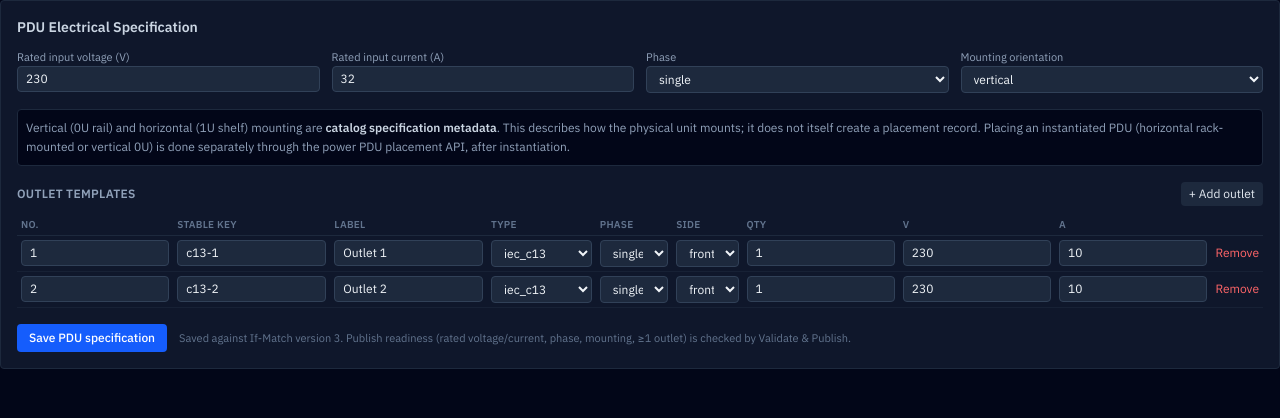
Test: PduSpecPanel › explains an optimistic-concurrency 409 instead of reporting a bare error
This screenshot has width=1280, height=418.
Click the button "Save PDU specification". click: (92, 338)
box: [17, 324, 167, 352]
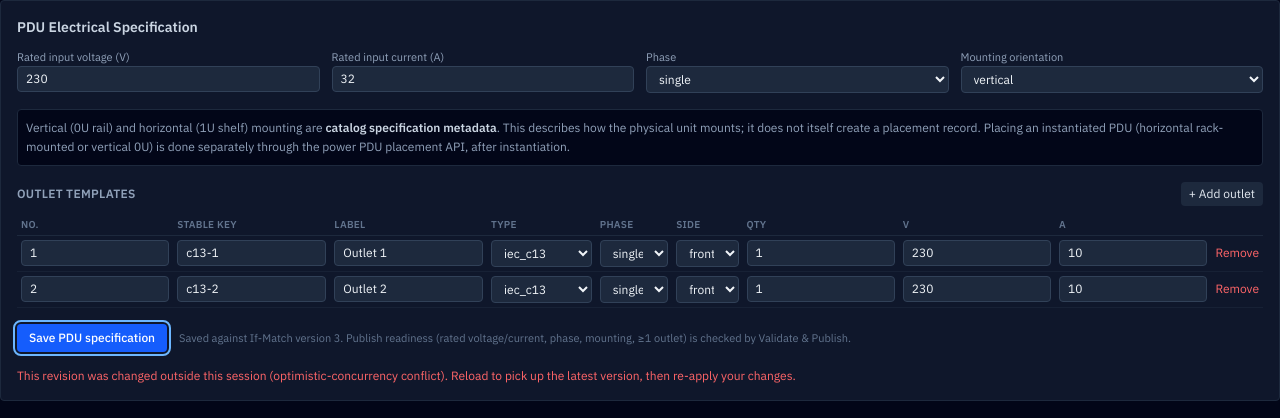
Check: the message shows "optimistic-concurrency conflict", box [17, 368, 796, 383]
